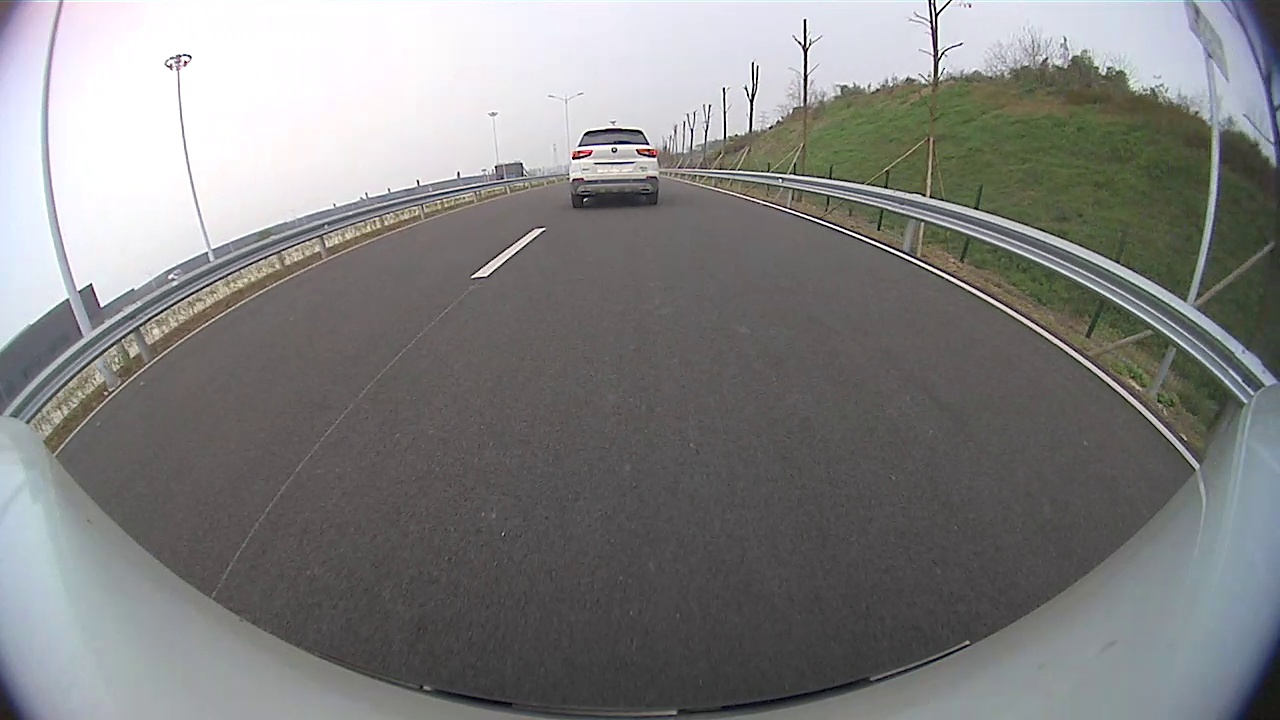car: (569, 128, 659, 207)
